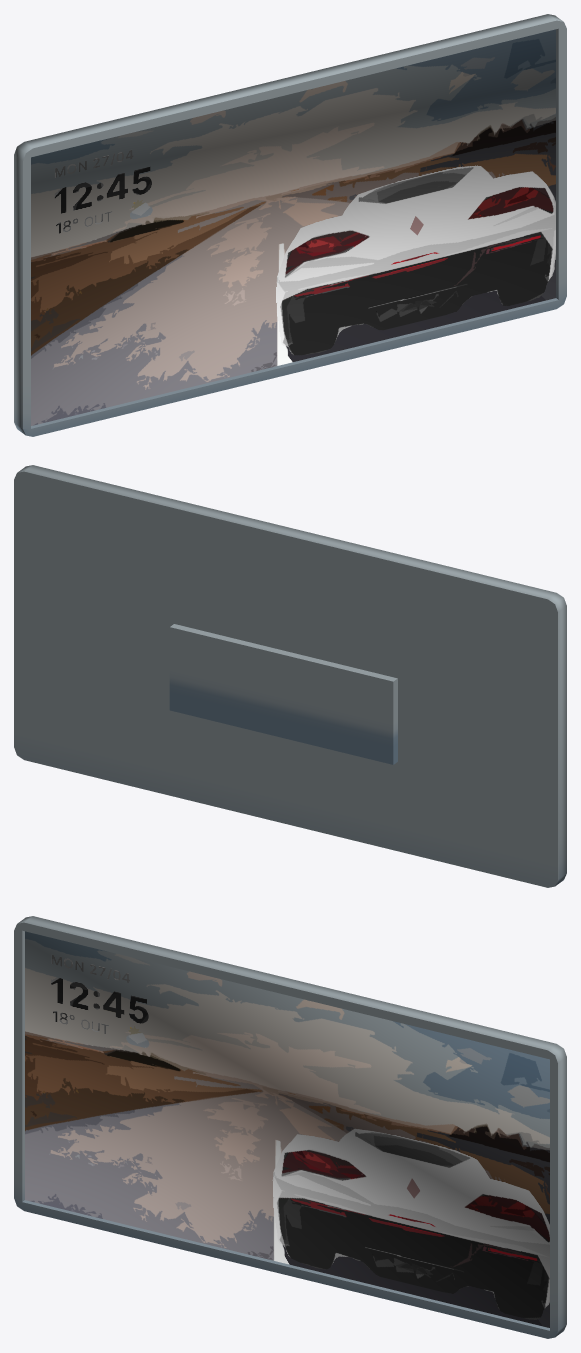
The model's file is Wall_TV.fbx.
3 renders of one model, top to bottom at view 1: azimuth 30°, elevation 25°; view 2: azimuth 150°, elevation 25°; view 3: azimuth 330°, elevation 25°, orthographic.
Visible parts, largest first — view 1: Wall_TV; view 2: Wall_TV; view 3: Wall_TV.
Boxes of the visible parts, bbox=[...] form: Wall_TV: bbox=[14, 14, 566, 436]; Wall_TV: bbox=[14, 465, 566, 887]; Wall_TV: bbox=[14, 916, 566, 1338].
Bounding box in the file's own units: 105 × 53.14 × 4.45.
